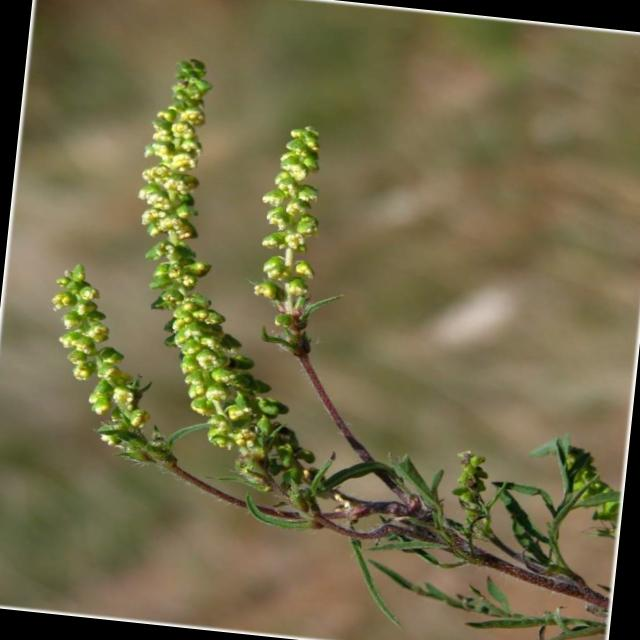ambrosia: (2, 14, 436, 532)
